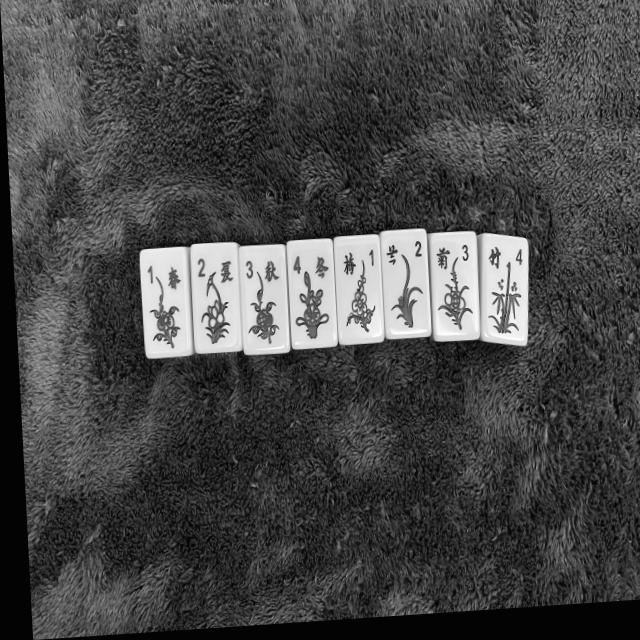1F: (336, 237, 385, 345)
1S: (140, 248, 192, 359)
2F: (382, 231, 433, 338)
2S: (189, 245, 244, 358)
3F: (429, 233, 481, 338)
3S: (240, 245, 291, 357)
4F: (478, 232, 534, 343)
4S: (286, 240, 338, 350)
